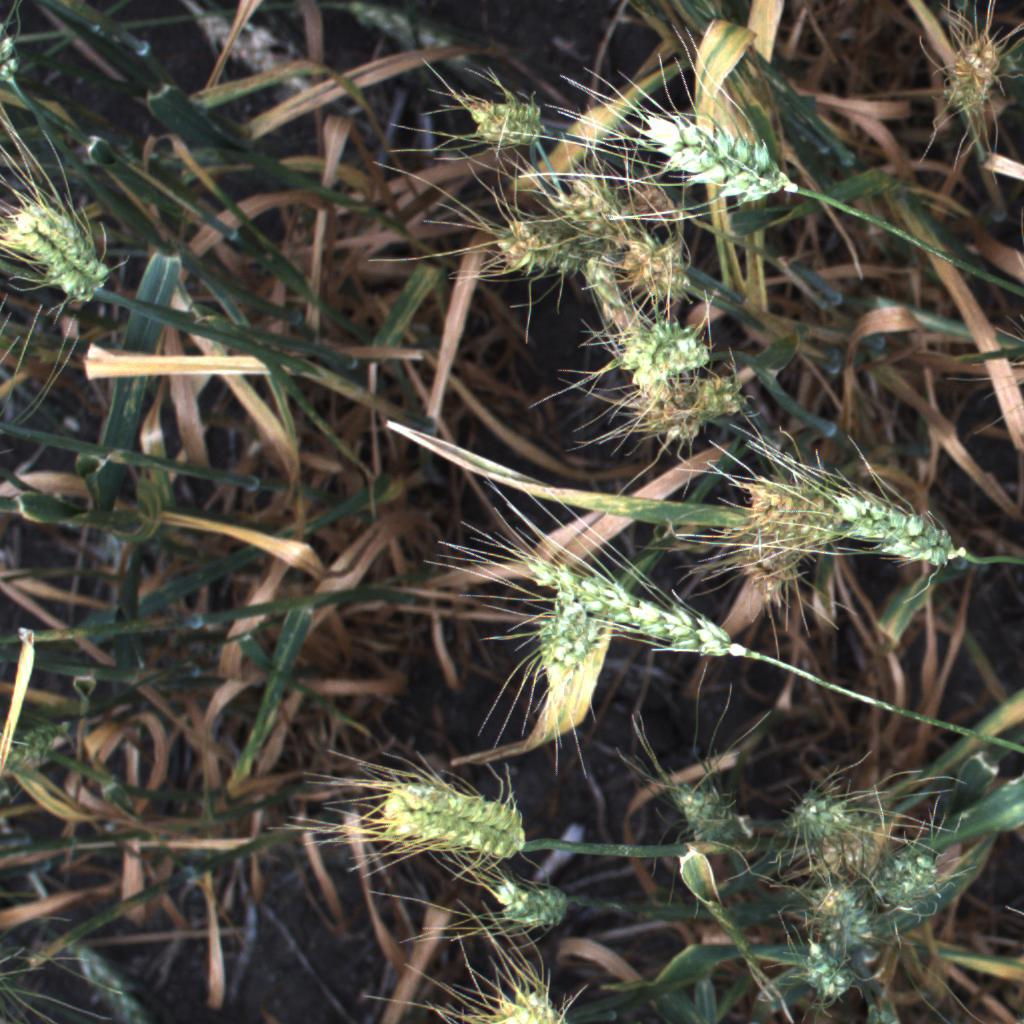0-0: (512, 551, 739, 674), (635, 100, 803, 209), (361, 766, 540, 868), (0, 168, 115, 310), (822, 471, 972, 577), (480, 208, 624, 291), (928, 17, 1024, 136), (537, 161, 653, 259), (451, 70, 562, 157), (603, 309, 719, 390), (663, 757, 759, 854), (603, 234, 721, 309), (742, 473, 853, 550), (869, 836, 955, 933), (629, 370, 760, 433), (523, 587, 600, 691), (774, 778, 871, 847), (448, 973, 572, 1024), (482, 874, 579, 939), (786, 932, 861, 1011), (803, 875, 870, 946)
